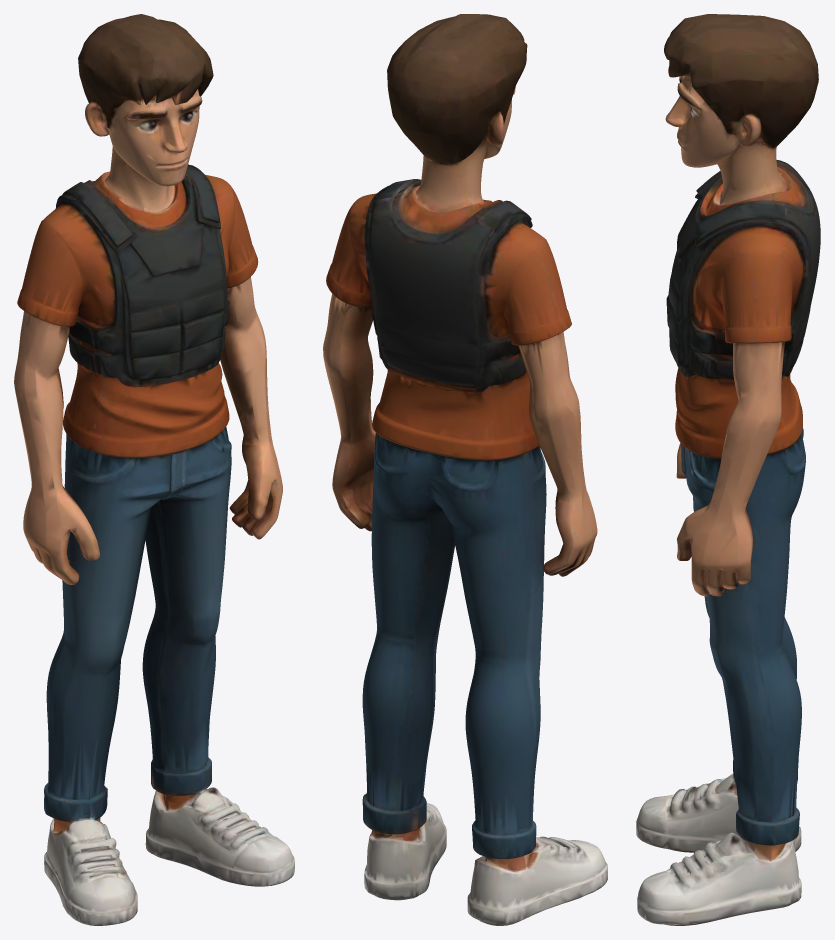
File: 18to30_Male.glb
The picture shows the model from 3 angles, left to right: view 1: azimuth 30°, elevation 25°; view 2: azimuth 150°, elevation 25°; view 3: azimuth 270°, elevation 25°; orthographic projection. The views are drawn at different scales.
Visible parts, largest first — view 1: node_0; view 2: node_0; view 3: node_0.
Part boxes in pixels (box(x1,y1,x2,y2)): node_0: box(14, 14, 294, 925); node_0: box(323, 14, 607, 925); node_0: box(636, 14, 820, 925).
Size of the model in its own units: 0.3515 by 1.16 by 0.227.
Materials: 1 (1 with a texture image).
